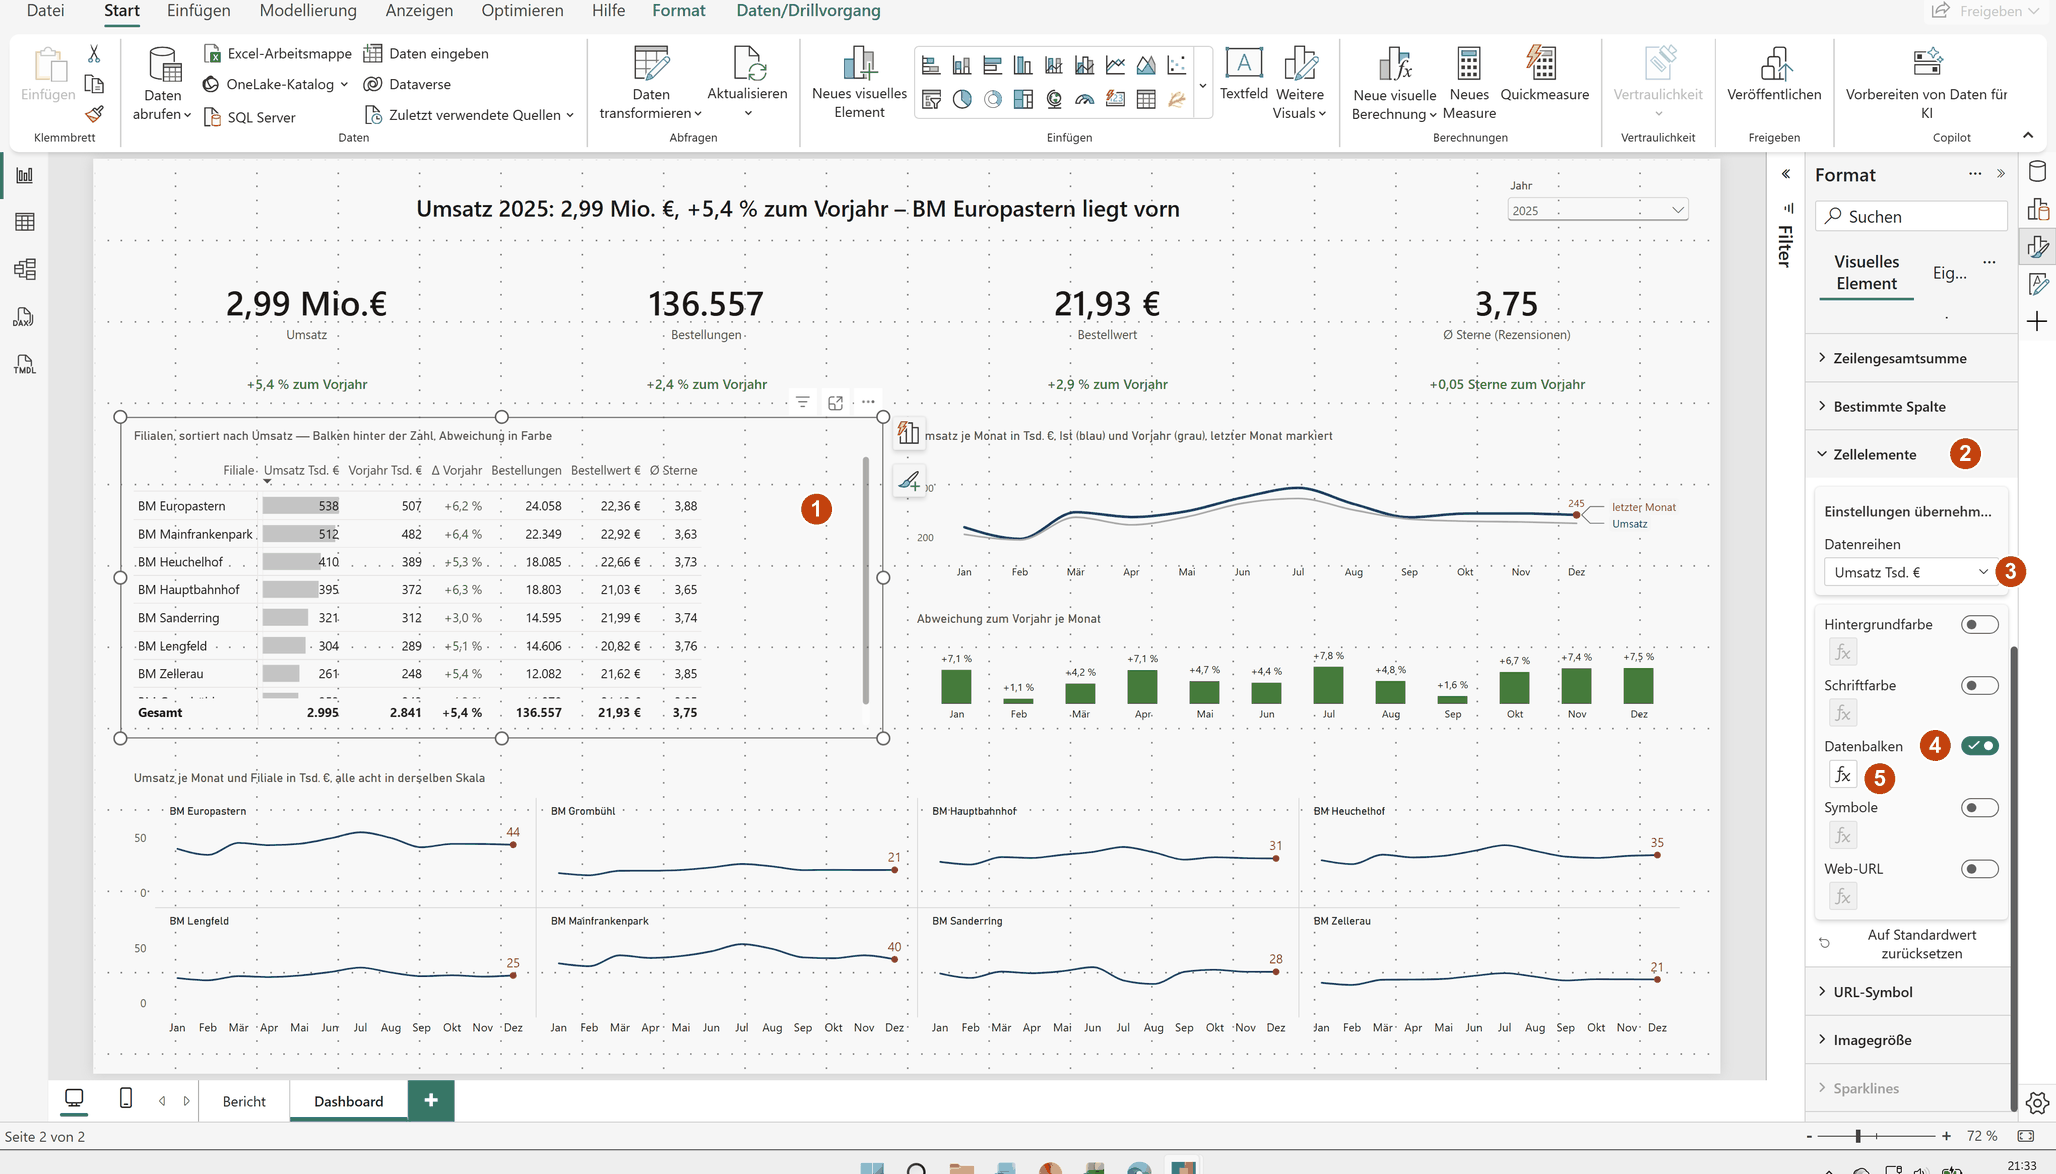

This screenshot's page, from the dashboard's own definition file:
{"tool":"tableau","page":{"name":"Dashboard 1","canvas":[1600,1000],"ordinal":0},"visuals":[{"type":"worksheet","title":"Titel","mark":"Automatic","box":[8,8,792,80]},{"type":"worksheet","title":"Umsatz je Monat","mark":"Automatic","rows":["Calculation_5100132365418516"],"cols":["date"],"box":[800,8,792,246]},{"type":"parameter","param":"[Parameters].[Parameter 5100132363096068]","box":[1432,8,160,52]},{"type":"worksheet","title":"Karte Umsatz","mark":"Automatic","box":[8,88,198,166]},{"type":"worksheet","title":"Karte Bestellungen","mark":"Automatic","box":[206,88,198,166]},{"type":"worksheet","title":"Karte Bestellwert","mark":"Automatic","box":[404,88,198,166]},{"type":"worksheet","title":"Karte Sterne","mark":"Automatic","box":[602,88,198,166]},{"type":"worksheet","title":"Filialen Umsatz","mark":"Automatic","rows":["branch_name"],"cols":["Calculation_5100132365291538"],"box":[8,254,297,246]},{"type":"worksheet","title":"Filialen Kennzahlen","mark":"Automatic","rows":["branch_name"],"box":[305,254,495,246]},{"type":"worksheet","title":"Abweichung je Monat","mark":"Bar","rows":["Calculation_5100132363948041"],"cols":["date"],"box":[800,254,792,246]},{"type":"worksheet","title":"Filialen je Monat","mark":"Automatic","rows":["branch_name","Calculation_5100132365291538","Calculation_5100132365418516"],"cols":["date"],"box":[8,500,1584,492]}]}

Visuals, with their boxes on the page's 1600x1000 design canvas (x1, y1, x2, y2). These are canvas units, not pixel positions in the 2056x1174 screenshot, which may show the page scaled, cropped or inside an application window:
"Titel" worksheet: l=8, t=8, r=800, b=88
"Umsatz je Monat" worksheet: l=800, t=8, r=1592, b=254
parameter: l=1432, t=8, r=1592, b=60
"Karte Umsatz" worksheet: l=8, t=88, r=206, b=254
"Karte Bestellungen" worksheet: l=206, t=88, r=404, b=254
"Karte Bestellwert" worksheet: l=404, t=88, r=602, b=254
"Karte Sterne" worksheet: l=602, t=88, r=800, b=254
"Filialen Umsatz" worksheet: l=8, t=254, r=305, b=500
"Filialen Kennzahlen" worksheet: l=305, t=254, r=800, b=500
"Abweichung je Monat" worksheet (Bar marks): l=800, t=254, r=1592, b=500
"Filialen je Monat" worksheet: l=8, t=500, r=1592, b=992
